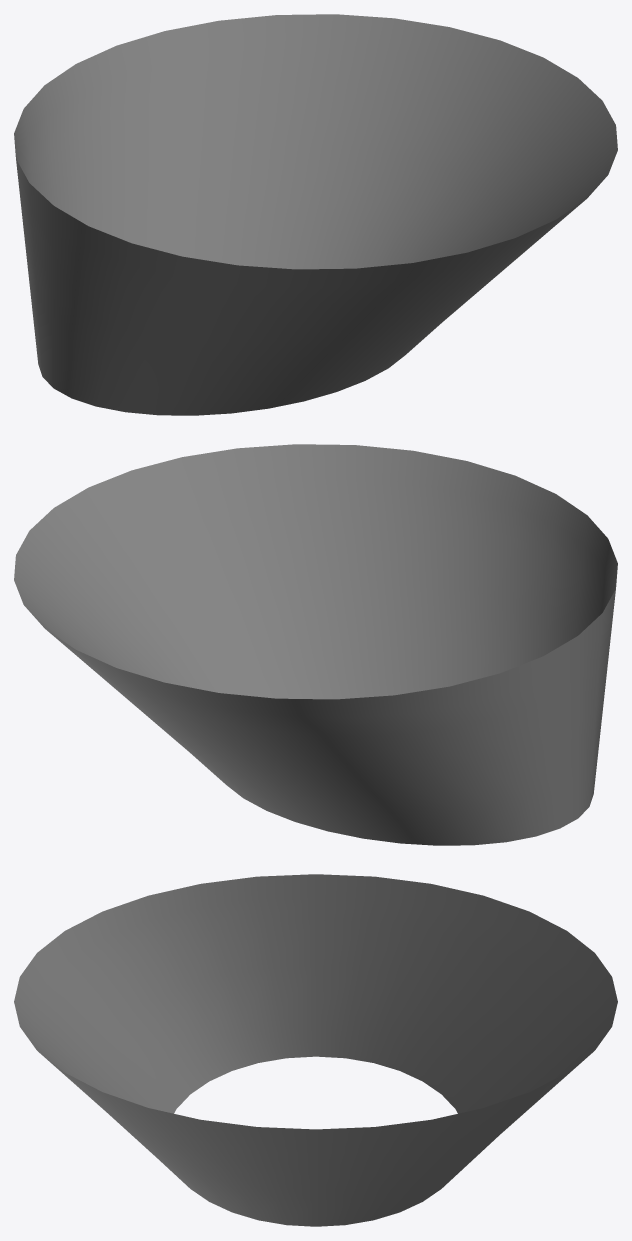
Rendered from eff_Spark03.fbx.
3 views of the same model, one above another, from view 1: azimuth 30°, elevation 25°; view 2: azimuth 150°, elevation 25°; view 3: azimuth 270°, elevation 25° (orthographic).
Visible parts, largest first — view 1: eff_Spark03_msh; view 2: eff_Spark03_msh; view 3: eff_Spark03_msh.
Boxes of the visible parts, bbox=[...] form: eff_Spark03_msh: bbox=[14, 14, 617, 415]; eff_Spark03_msh: bbox=[14, 444, 617, 845]; eff_Spark03_msh: bbox=[14, 874, 617, 1226].
Size of the model in its own units: 3 by 1 by 3.
